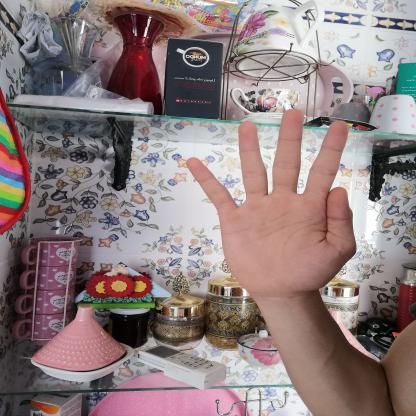SHEEN: (173, 100, 371, 306)
